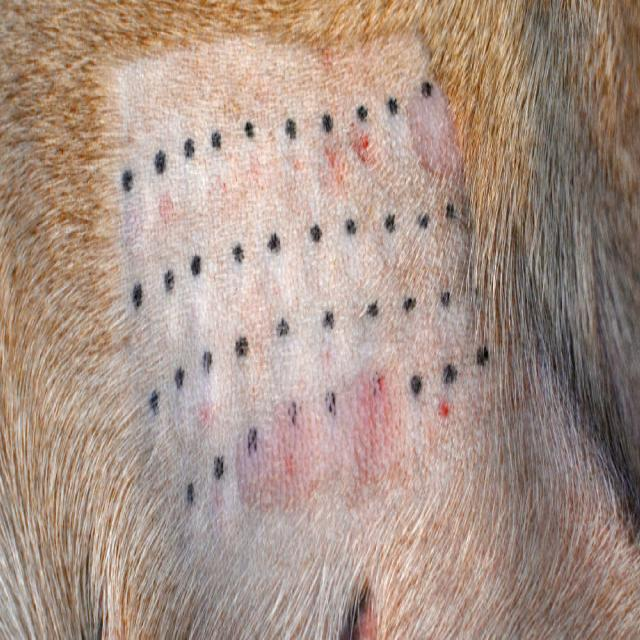allergic dermatitis: (188, 363, 414, 531), (295, 76, 460, 188), (118, 172, 174, 249)
